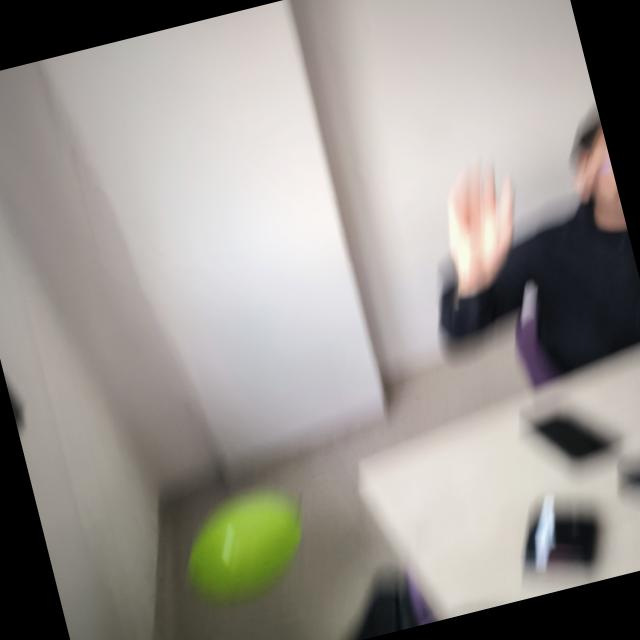balloon: (188, 489, 302, 604)
